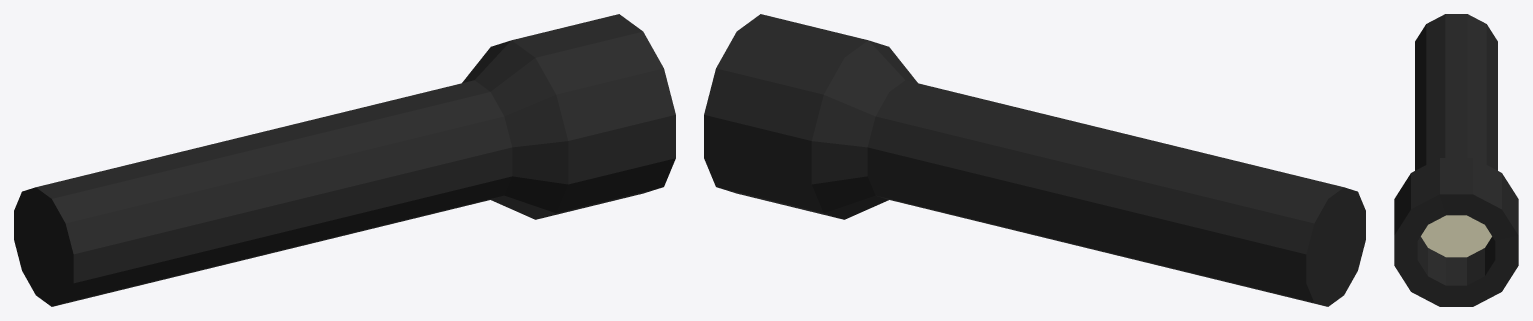
Rendered from Flashlight.gltf.
3 views of the same model, side by side, from view 1: azimuth 30°, elevation 25°; view 2: azimuth 150°, elevation 25°; view 3: azimuth 270°, elevation 25° (orthographic). The views are drawn at different scales.
Parts seen in each view (by area): view 1: cylinder; view 2: cylinder; view 3: cylinder.
Part boxes in pixels (box(x1,y1,x2,y2)): cylinder: box(14, 14, 675, 306); cylinder: box(704, 14, 1365, 306); cylinder: box(1394, 14, 1518, 306).
Bounding box in the file's own units: 0.5691 × 0.15 × 0.15.
1 material, 1 textured.
